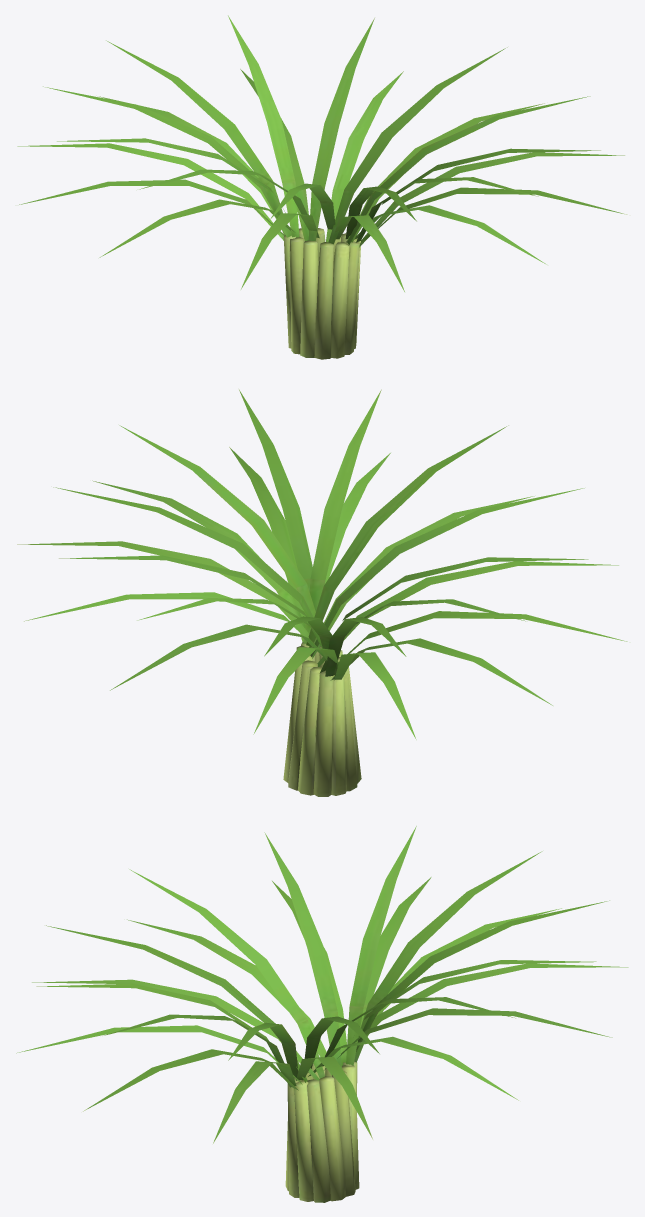
Rendered from crop_lemongrass.glb.
3 views of the same model, one above another, from view 1: azimuth 30°, elevation 25°; view 2: azimuth 150°, elevation 25°; view 3: azimuth 270°, elevation 25° (orthographic). The views are drawn at different scales.
Visible parts, largest first — view 1: crop_lemongrass, fruit; view 2: crop_lemongrass, fruit; view 3: crop_lemongrass, fruit.
Boxes of the visible parts, bbox=[...] form: crop_lemongrass: bbox=[17, 15, 627, 291]; fruit: bbox=[283, 228, 360, 359]; crop_lemongrass: bbox=[17, 389, 627, 739]; fruit: bbox=[283, 642, 361, 796]; crop_lemongrass: bbox=[16, 826, 628, 1143]; fruit: bbox=[285, 1061, 359, 1202].
Bounding box in the file's own units: 0.4969 × 0.2109 × 0.4816.
Materials: 1 (1 with a texture image).
